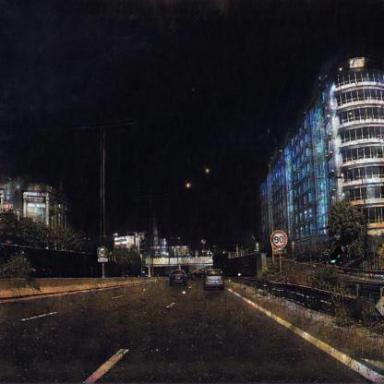Speed_limit_90: (272, 231, 288, 248)
